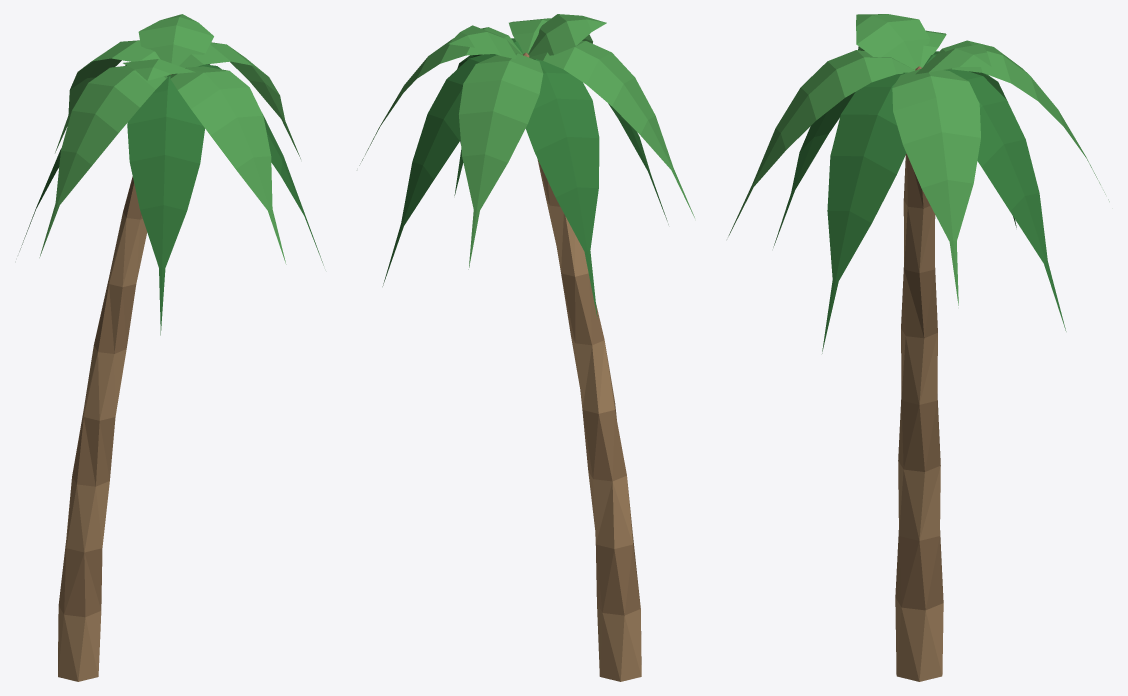
The model's file is palm_tree_v2.fbx.
3 views of the same model, side by side, from view 1: azimuth 30°, elevation 25°; view 2: azimuth 150°, elevation 25°; view 3: azimuth 270°, elevation 25° (orthographic). The views are drawn at different scales.
Parts seen in each view (by area): view 1: PalmTree; view 2: PalmTree; view 3: PalmTree.
Boxes of the visible parts, x1,y1,x2,y2 form: PalmTree: (19,14,323,681); PalmTree: (359,14,694,681); PalmTree: (728,14,1109,681).
Size of the model in its own units: 10.98 by 21.38 by 10.98.
